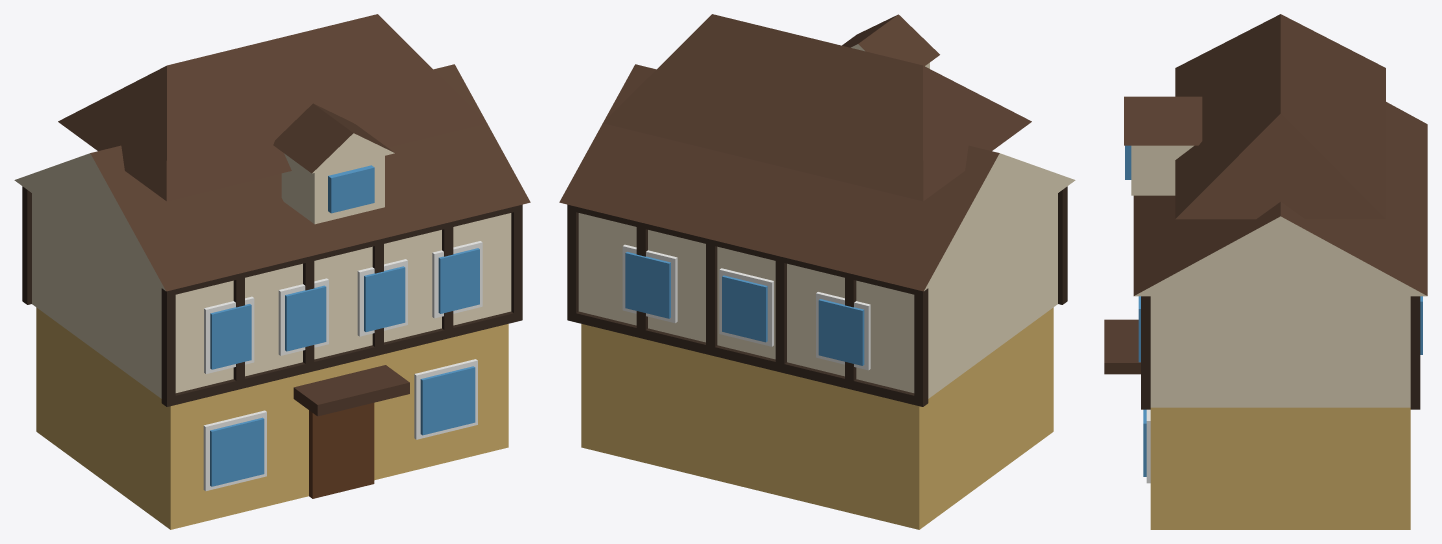
Rendered from 32_franconian_inn_2.obj.
3 views of the same model, side by side, from view 1: azimuth 30°, elevation 25°; view 2: azimuth 150°, elevation 25°; view 3: azimuth 270°, elevation 25° (orthographic). The views are drawn at different scales.
Parts seen in each view (by area): view 1: 32_franconian_inn_2; view 2: 32_franconian_inn_2; view 3: 32_franconian_inn_2.
Part boxes in pixels (x1,y1,x2,y2): 32_franconian_inn_2: [14, 14, 530, 529]; 32_franconian_inn_2: [559, 14, 1075, 529]; 32_franconian_inn_2: [1104, 14, 1427, 529].
Size of the model in its own units: 1.66 by 1.74 by 1.32.
